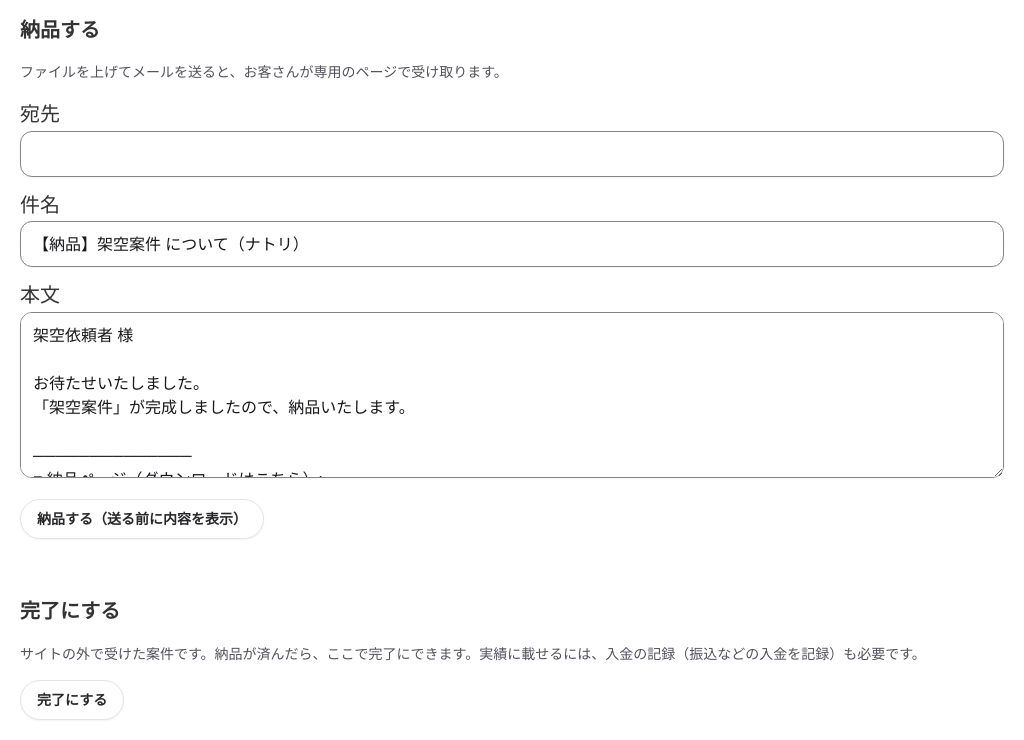
Test: completes an outside-the-site case only after the confirm step
(page scrolled)
Step 1. Click the button "完了にする" → click(72, 700), box [20,680,124,720]
(page scrolled)
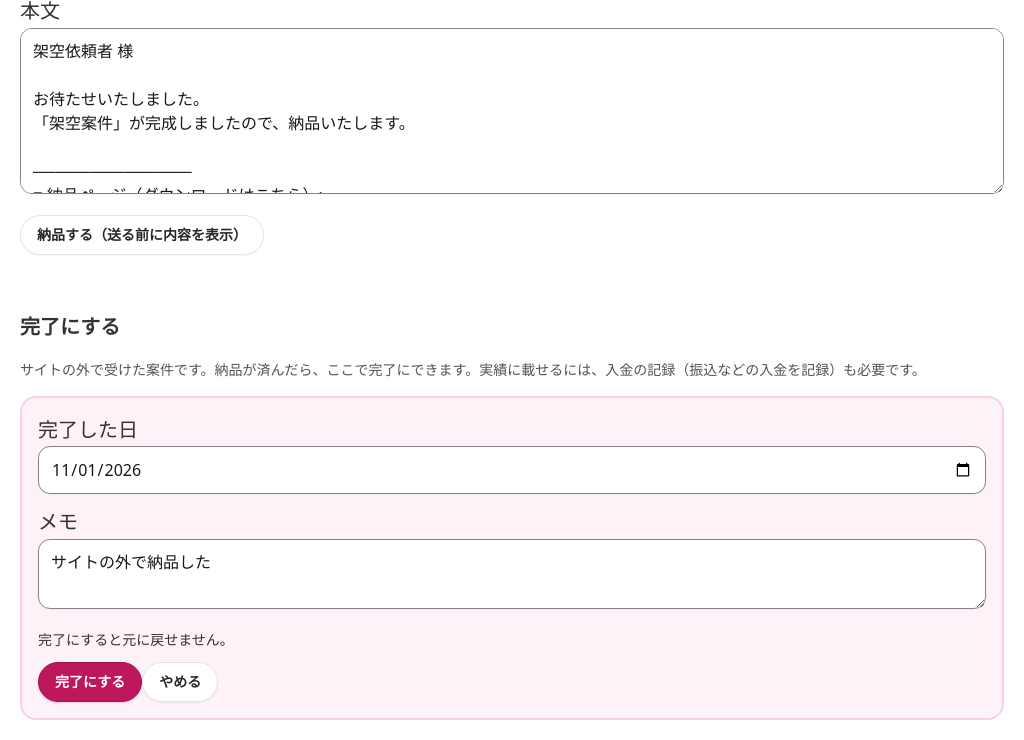
Expected: the text "完了にすると元に戻せません。" is shown, [38,630,234,649]
Step 2. Click the button "完了にする" → click(90, 682), box [38,662,142,702]
(page scrolled)
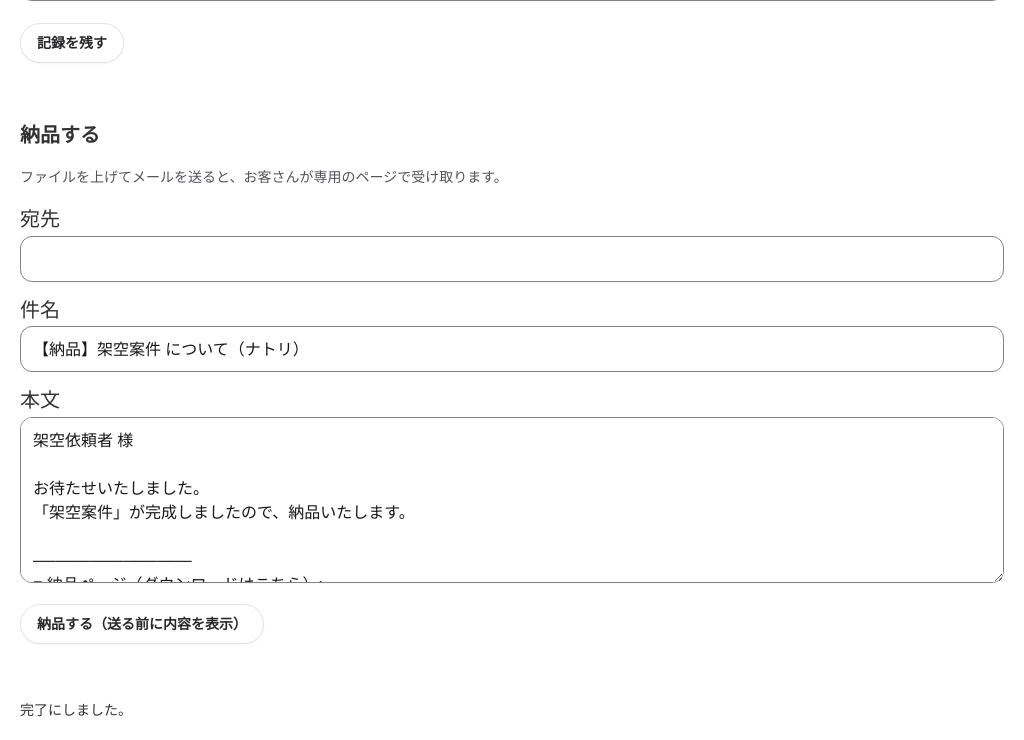
Expected: the text "完了にしました。" is shown, [20,700,132,719]
Expected: the heading "完了にする" is gone
